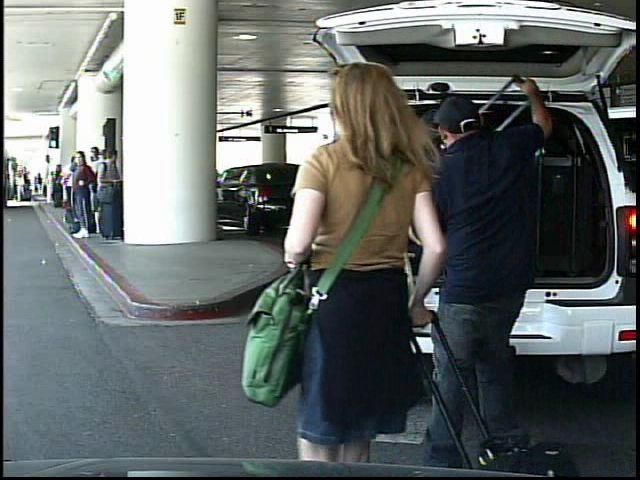person: (273, 50, 463, 472), (387, 71, 551, 454), (16, 174, 26, 205), (35, 172, 46, 199)
